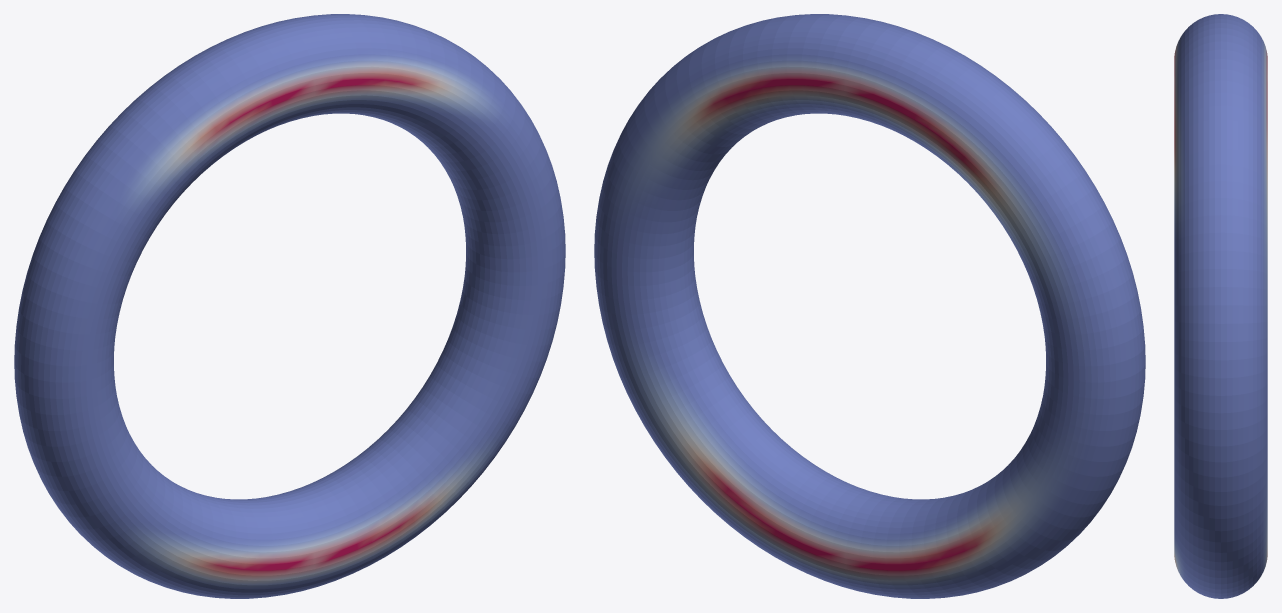
3 views of the same model, side by side, from view 1: azimuth 30°, elevation 25°; view 2: azimuth 150°, elevation 25°; view 3: azimuth 270°, elevation 25° (orthographic). The views are drawn at different scales.
Parts seen in each view (by area): view 1: world; view 2: world; view 3: world.
Part boxes in pixels (bbox=[...]): world: bbox=[14, 14, 565, 598]; world: bbox=[594, 14, 1145, 598]; world: bbox=[1174, 14, 1267, 598].
Bounding box in the file's own units: 17.47 × 17.47 × 2.79.
